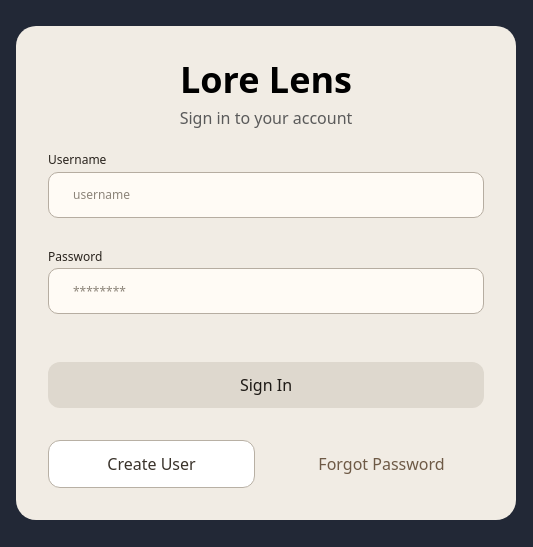
it: LoginPage › validation › shows "Password is required." when only password is missing
In the field labelled "Username": coordinates (266, 195) [48,172,484,218], type "lakhaniejaaz"
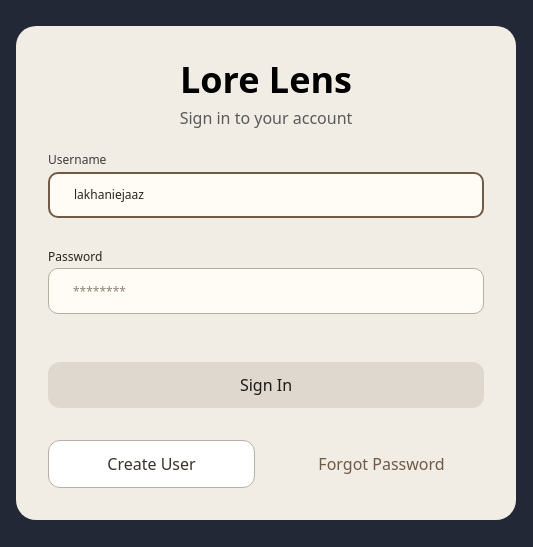
Click the button "Sign In": coordinates (266, 385) [48,362,484,408]
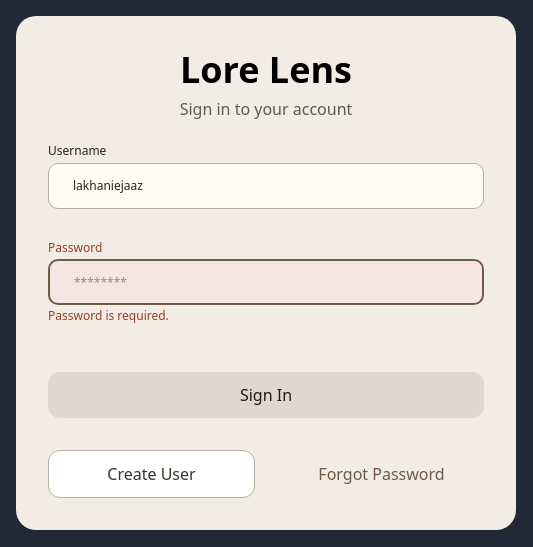
Result: the text "Password is required." is shown at [48,307,169,324]
